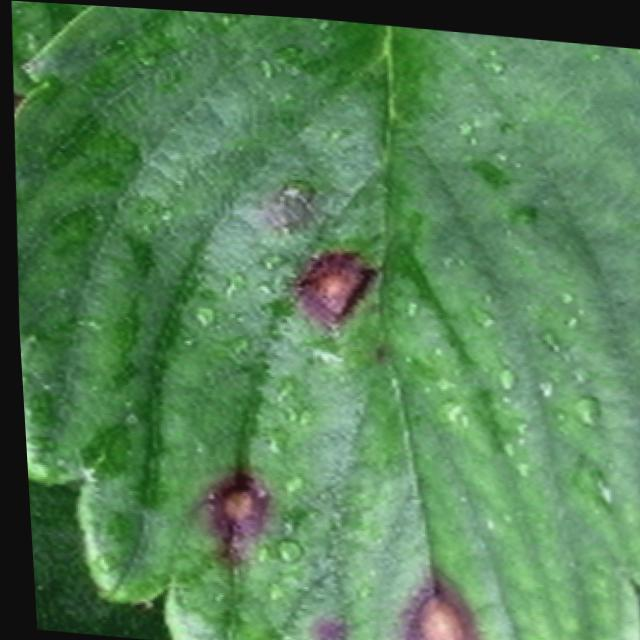Leaf Spot: (12, 4, 640, 640)
